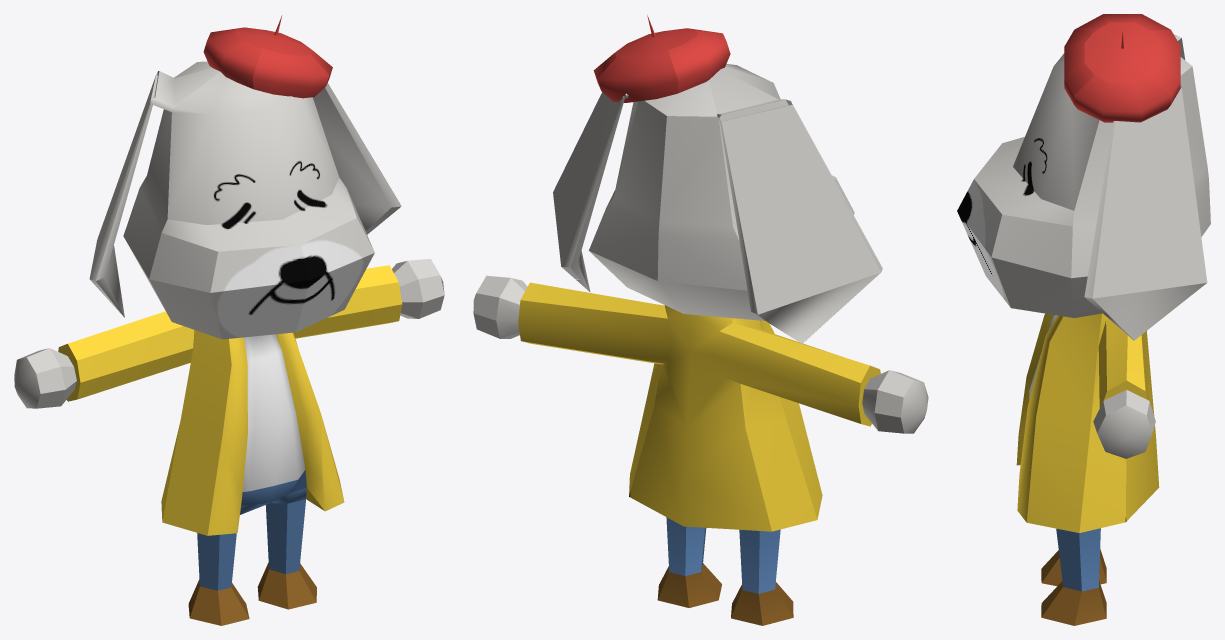
Rendered from donaostra.fbx.
The picture shows the model from 3 angles, left to right: view 1: azimuth 30°, elevation 25°; view 2: azimuth 150°, elevation 25°; view 3: azimuth 270°, elevation 25°; orthographic projection. The views are drawn at different scales.
Visible parts, largest first — view 1: Box001, Box002; view 2: Box001, Box002; view 3: Box001, Box002.
Boxes of the visible parts, left/top/right/bottom form: Box001: left=14, top=61, right=444, bottom=625; Box002: left=203, top=15, right=332, bottom=98; Box001: left=473, top=64, right=928, bottom=625; Box002: left=593, top=15, right=730, bottom=102; Box001: left=957, top=34, right=1210, bottom=625; Box002: left=1064, top=14, right=1180, bottom=122.
Bounding box in the file's own units: 598 × 746 × 291.
Materials: 2 (2 with a texture image).
